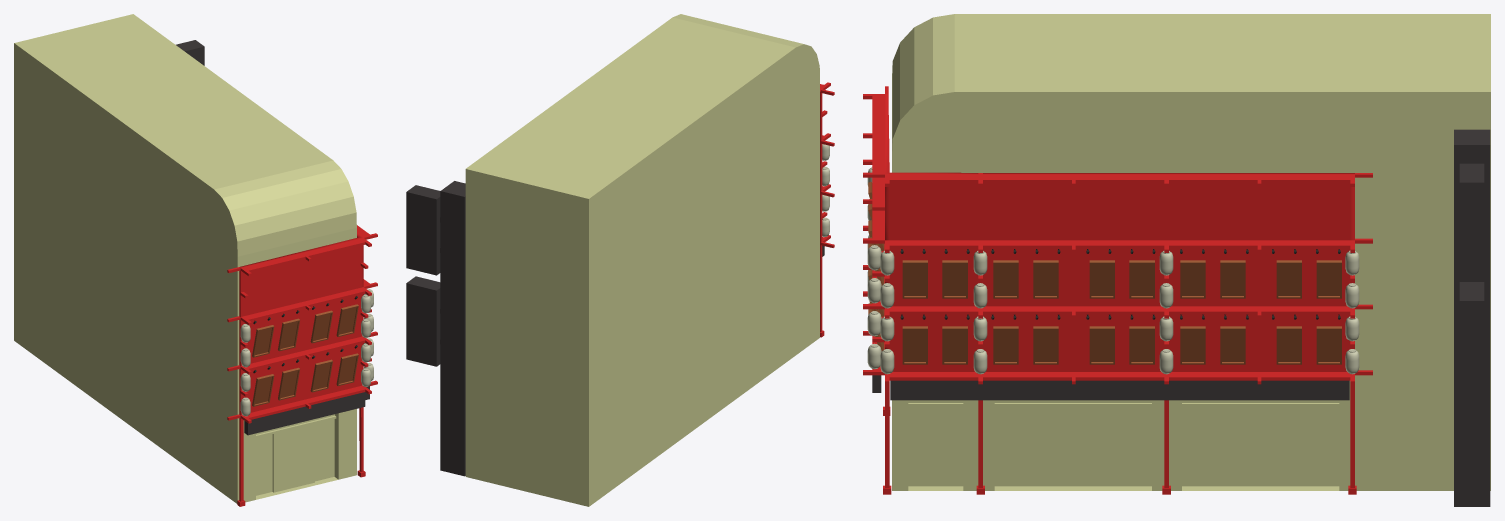
File: KusikatuYokoyama_Tutenkaku.FBX
3 views of the same model, side by side, from view 1: azimuth 30°, elevation 25°; view 2: azimuth 150°, elevation 25°; view 3: azimuth 270°, elevation 25° (orthographic). The views are drawn at different scales.
Visible parts, largest first — view 1: Building, Frame, Board, SignBoard, Lantern; view 2: Building, SignBoard, Frame, Lantern; view 3: Building, Frame, SignBoard, Board, Lantern.
Boxes of the visible parts, left/top/right/bottom form: Building: left=14, top=14, right=356, bottom=503; Frame: left=227, top=225, right=377, bottom=506; Board: left=252, top=294, right=363, bottom=406; SignBoard: left=176, top=40, right=369, bottom=435; Lantern: left=240, top=289, right=373, bottom=416; Building: left=465, top=14, right=819, bottom=506; SignBoard: left=406, top=181, right=824, bottom=476; Frame: left=820, top=82, right=834, bottom=337; Lantern: left=822, top=144, right=829, bottom=236; Building: left=892, top=14, right=1490, bottom=490; Frame: left=863, top=86, right=1372, bottom=494; SignBoard: left=872, top=129, right=1490, bottom=506; Board: left=868, top=182, right=1341, bottom=364; Lantern: left=867, top=167, right=1359, bottom=374.
Bounding box in the file's own units: 811 × 1212 × 1729.
